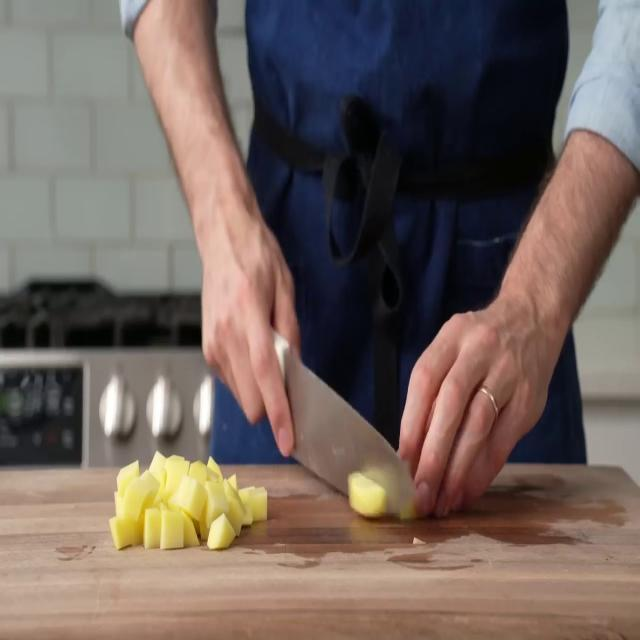Knife: (216, 328, 433, 542)
